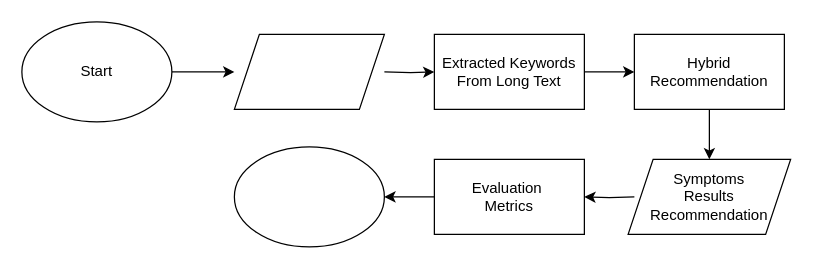
Some shapes in this 813 by 269 pixel diagram are drawn without their labels. The centre of each missing label's shape, as x and y in pixels:
"Data Acquisition" goes at [308,71].
"End" goes at [308,196].
